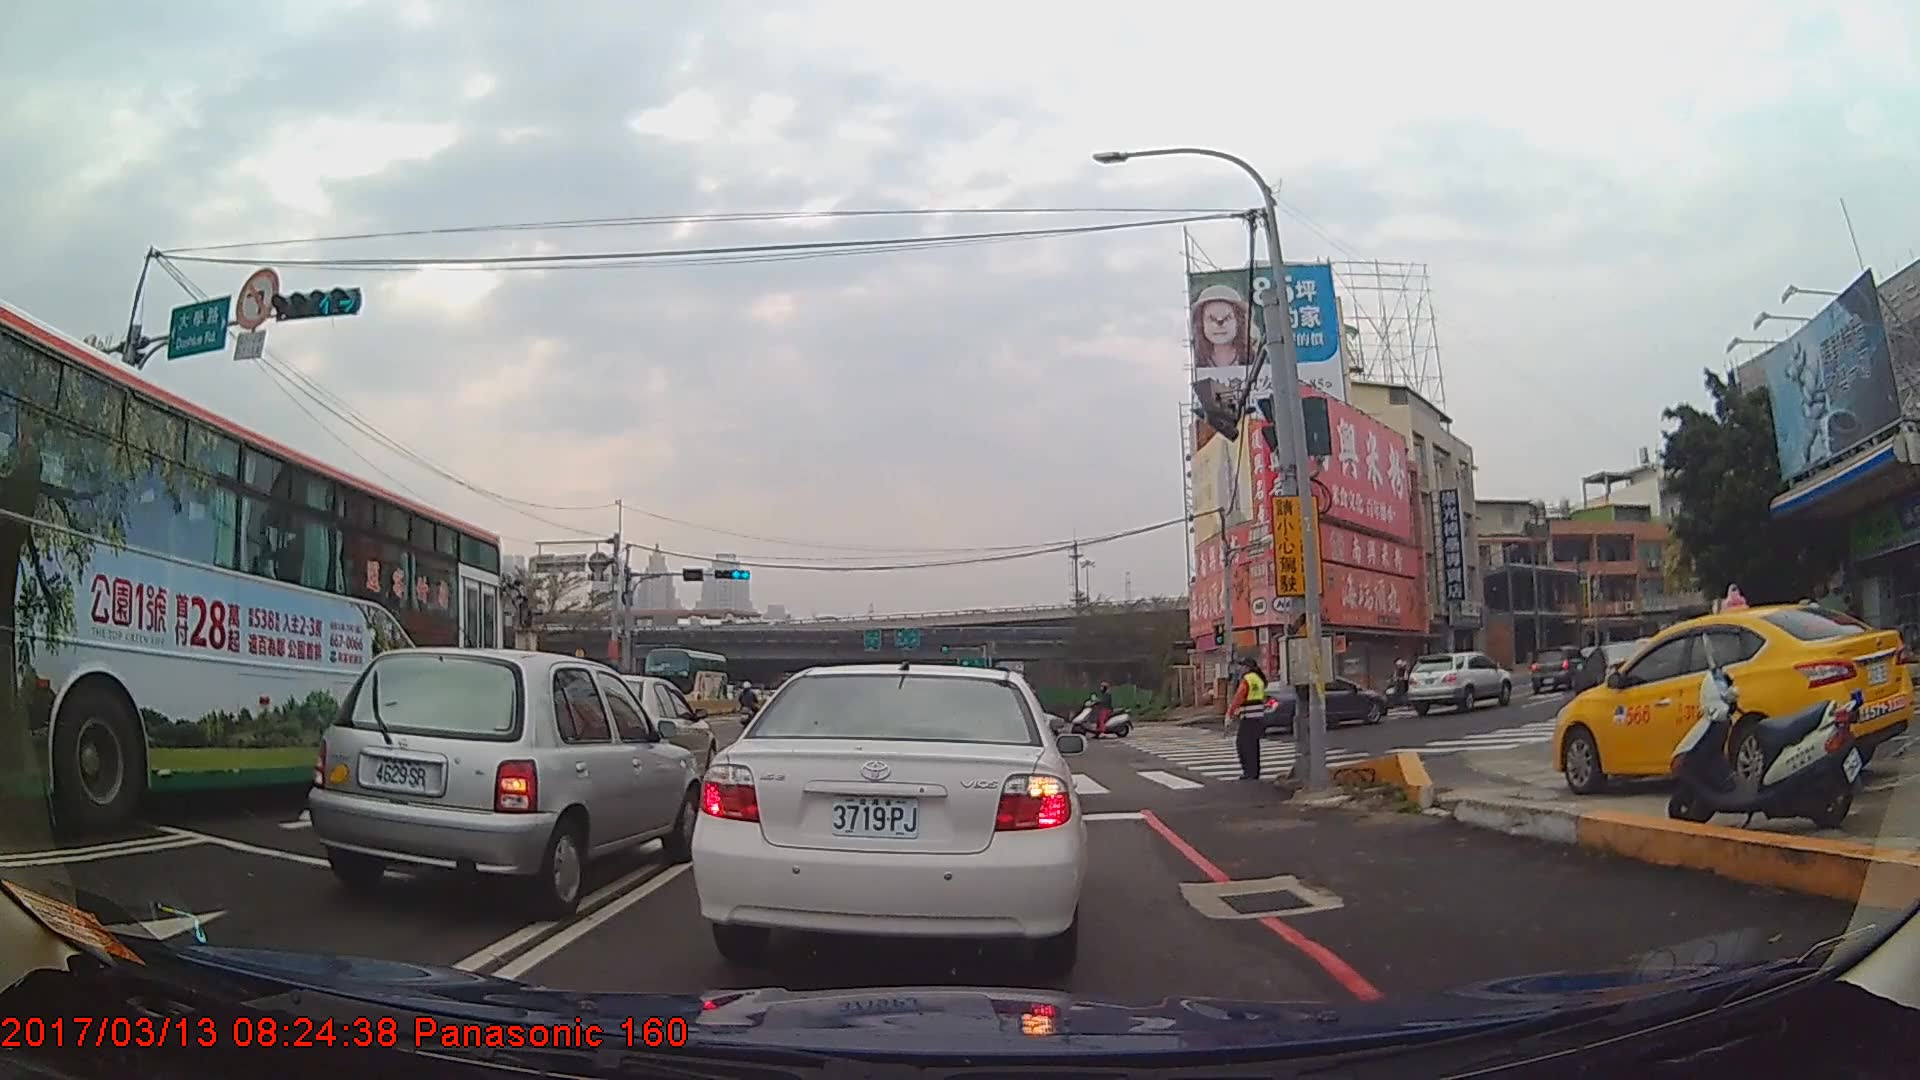pedestrian: (1226, 659, 1271, 787)
rider: (1073, 682, 1135, 739), (1384, 659, 1418, 710), (739, 681, 763, 733)
vehicle: (0, 286, 499, 830), (691, 657, 1087, 966), (305, 646, 700, 918), (1552, 602, 1913, 795), (1235, 672, 1385, 737), (1407, 649, 1513, 713), (643, 645, 726, 708), (1529, 646, 1587, 692)
